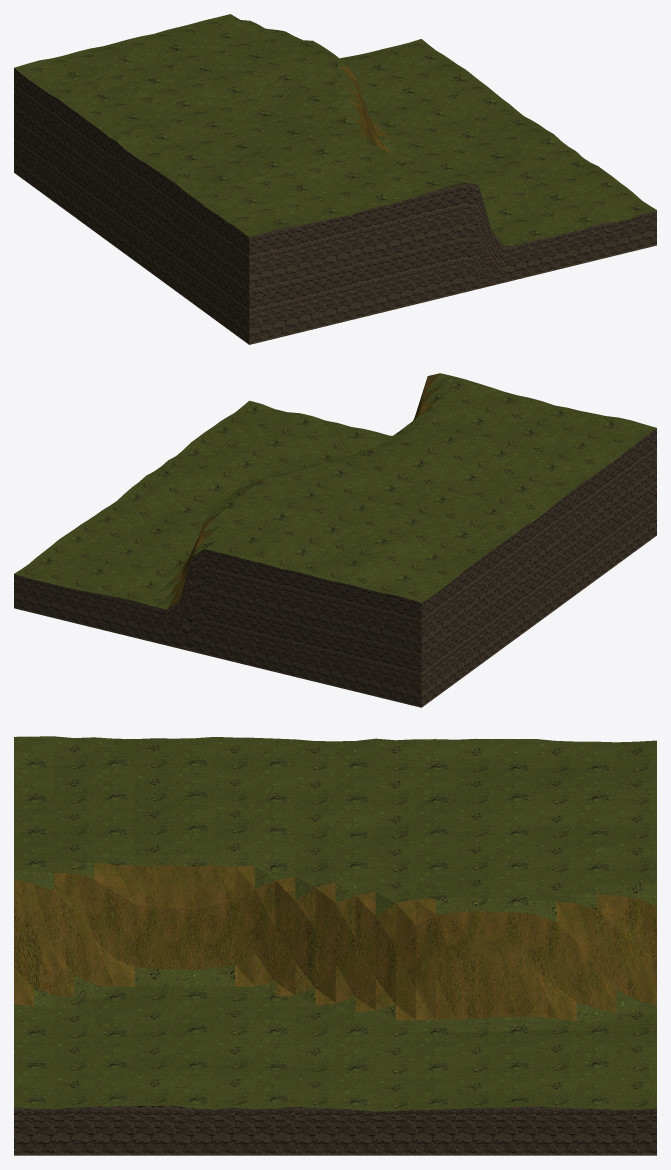
Rendered from cliff_ledge_01.glb.
3 renders of one model, top to bottom at view 1: azimuth 30°, elevation 25°; view 2: azimuth 150°, elevation 25°; view 3: azimuth 270°, elevation 25°, orthographic. The views are drawn at different scales.
Visible parts, largest first — view 1: cliff_ledge_01; view 2: cliff_ledge_01; view 3: cliff_ledge_01.
Boxes of the visible parts, <box> form: cliff_ledge_01: <box>14,14,656,344</box>; cliff_ledge_01: <box>14,373,656,707</box>; cliff_ledge_01: <box>14,736,656,1155</box>.
Size of the model in its own units: 16 by 4.12 by 16.
Materials: 3 (3 with a texture image).
